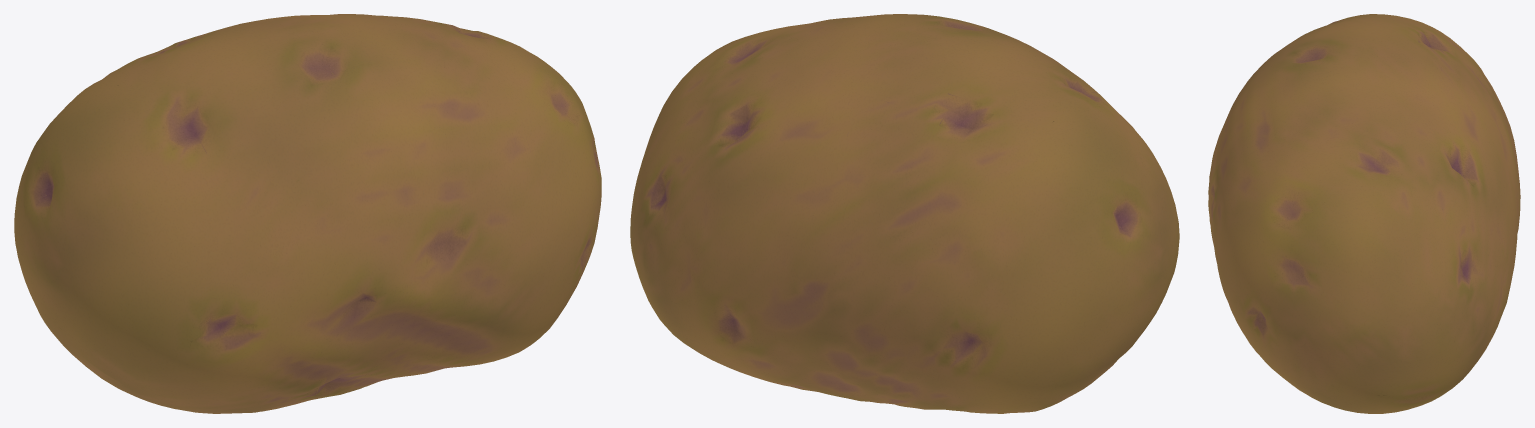
Rendered from Potato.glb.
3 views of the same model, side by side, from view 1: azimuth 30°, elevation 25°; view 2: azimuth 150°, elevation 25°; view 3: azimuth 270°, elevation 25° (orthographic). The views are drawn at different scales.
Parts seen in each view (by area): view 1: mesh; view 2: mesh; view 3: mesh.
Part boxes in pixels (left/top/right/bottom): mesh: left=14, top=14, right=601, bottom=413; mesh: left=630, top=14, right=1179, bottom=413; mesh: left=1208, top=14, right=1520, bottom=413.
Bounding box in the file's own units: 3.3 × 2.18 × 2.11.
1 material, 1 textured.
